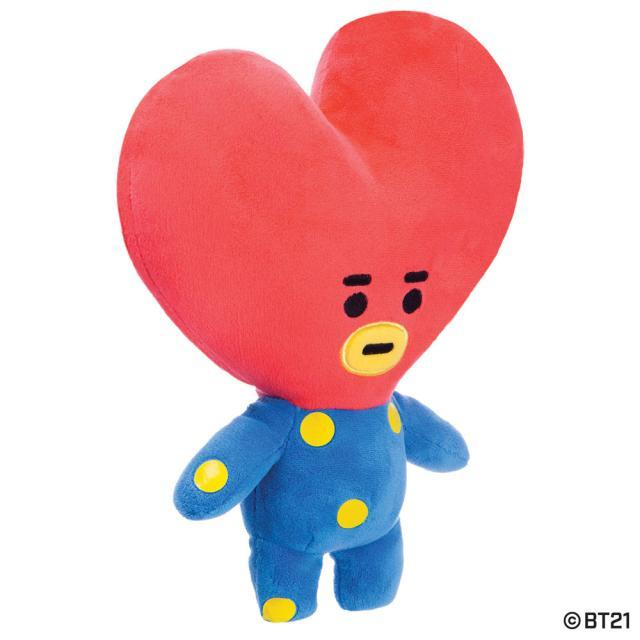soft-toy: (119, 14, 524, 624)
